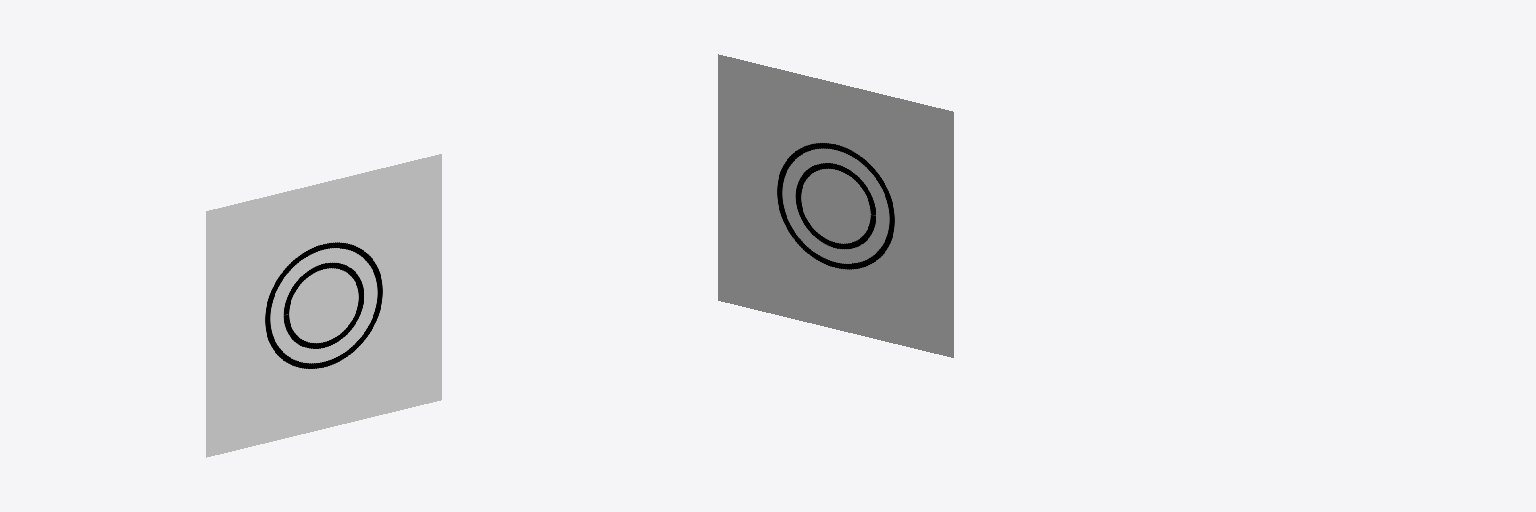
3 views of the same model, side by side, from view 1: azimuth 30°, elevation 25°; view 2: azimuth 150°, elevation 25°; view 3: azimuth 270°, elevation 25° (orthographic).
Visible parts, largest first — view 1: Mesh; view 2: Mesh; view 3: none.
Part boxes in pixels (x1,y1,x2,y2): Mesh: (206,154,441,457); Mesh: (718,54,953,357).
Bounding box in the file's own units: 50 × 50 × 50.
2 materials, 2 textured.